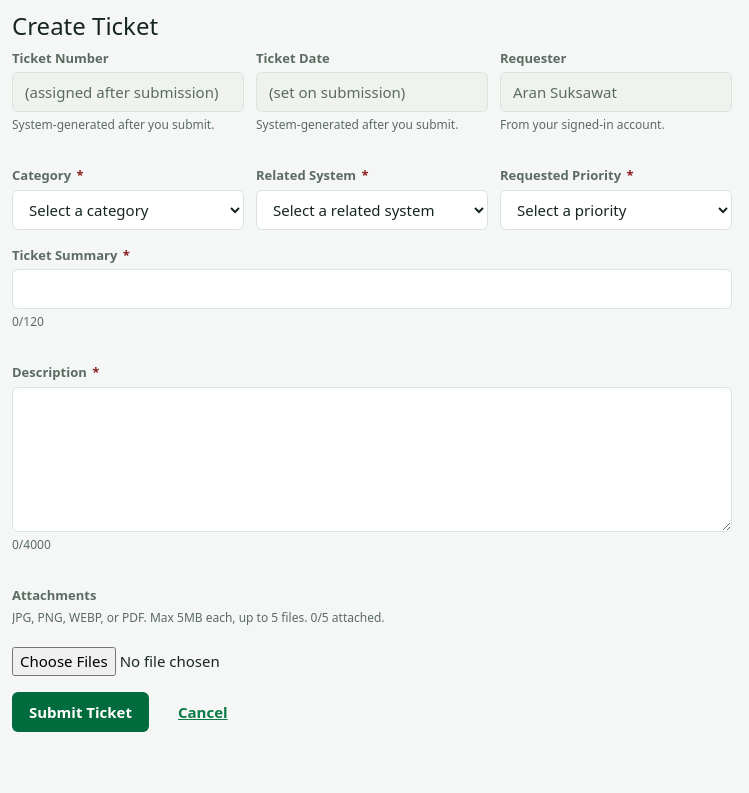
Create Ticket screen › shows a field-level message and sends no request when Summary is empty
Expected: the dropdown labelled "Category *" is shown, [12, 190, 244, 230]
Click the button "Submit Ticket" at (80, 712), box [12, 692, 149, 732]
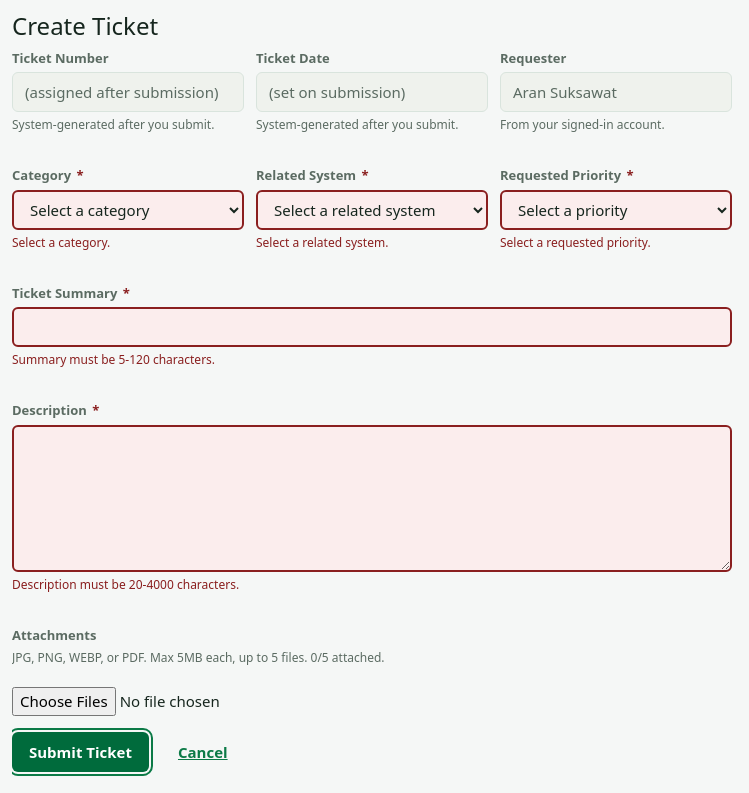
Now the text "Summary must be 5-120 characters." is shown, box [12, 351, 215, 368]
